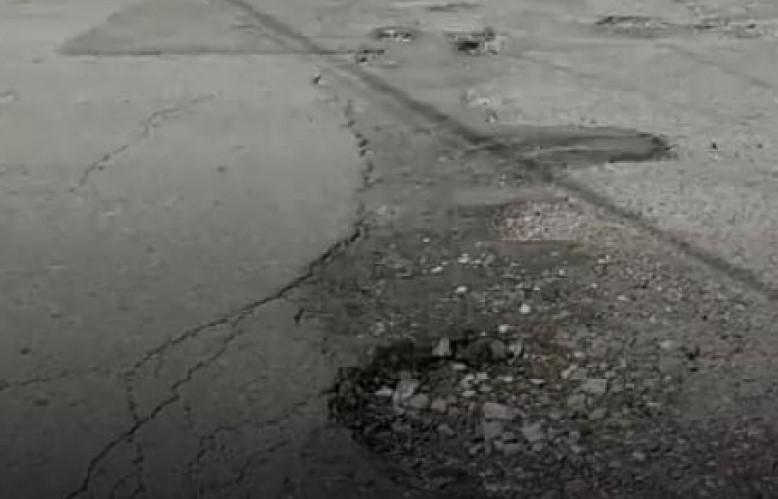alligator-crack: (57, 290, 327, 499)
crack: (298, 60, 386, 280)
pothole: (335, 312, 776, 499), (59, 69, 220, 203), (588, 0, 778, 92), (447, 24, 516, 88), (358, 11, 424, 68), (109, 66, 113, 82), (136, 65, 138, 72)
